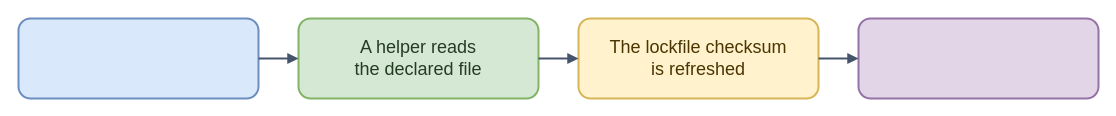
Image size: 1116x116. Some labels were removed from this diagram. Each missing label, with the centre of its shape:
"An artifact version or URL changes" belongs at [138,58].
"CI and review check the proposed update" belongs at [978,58].
